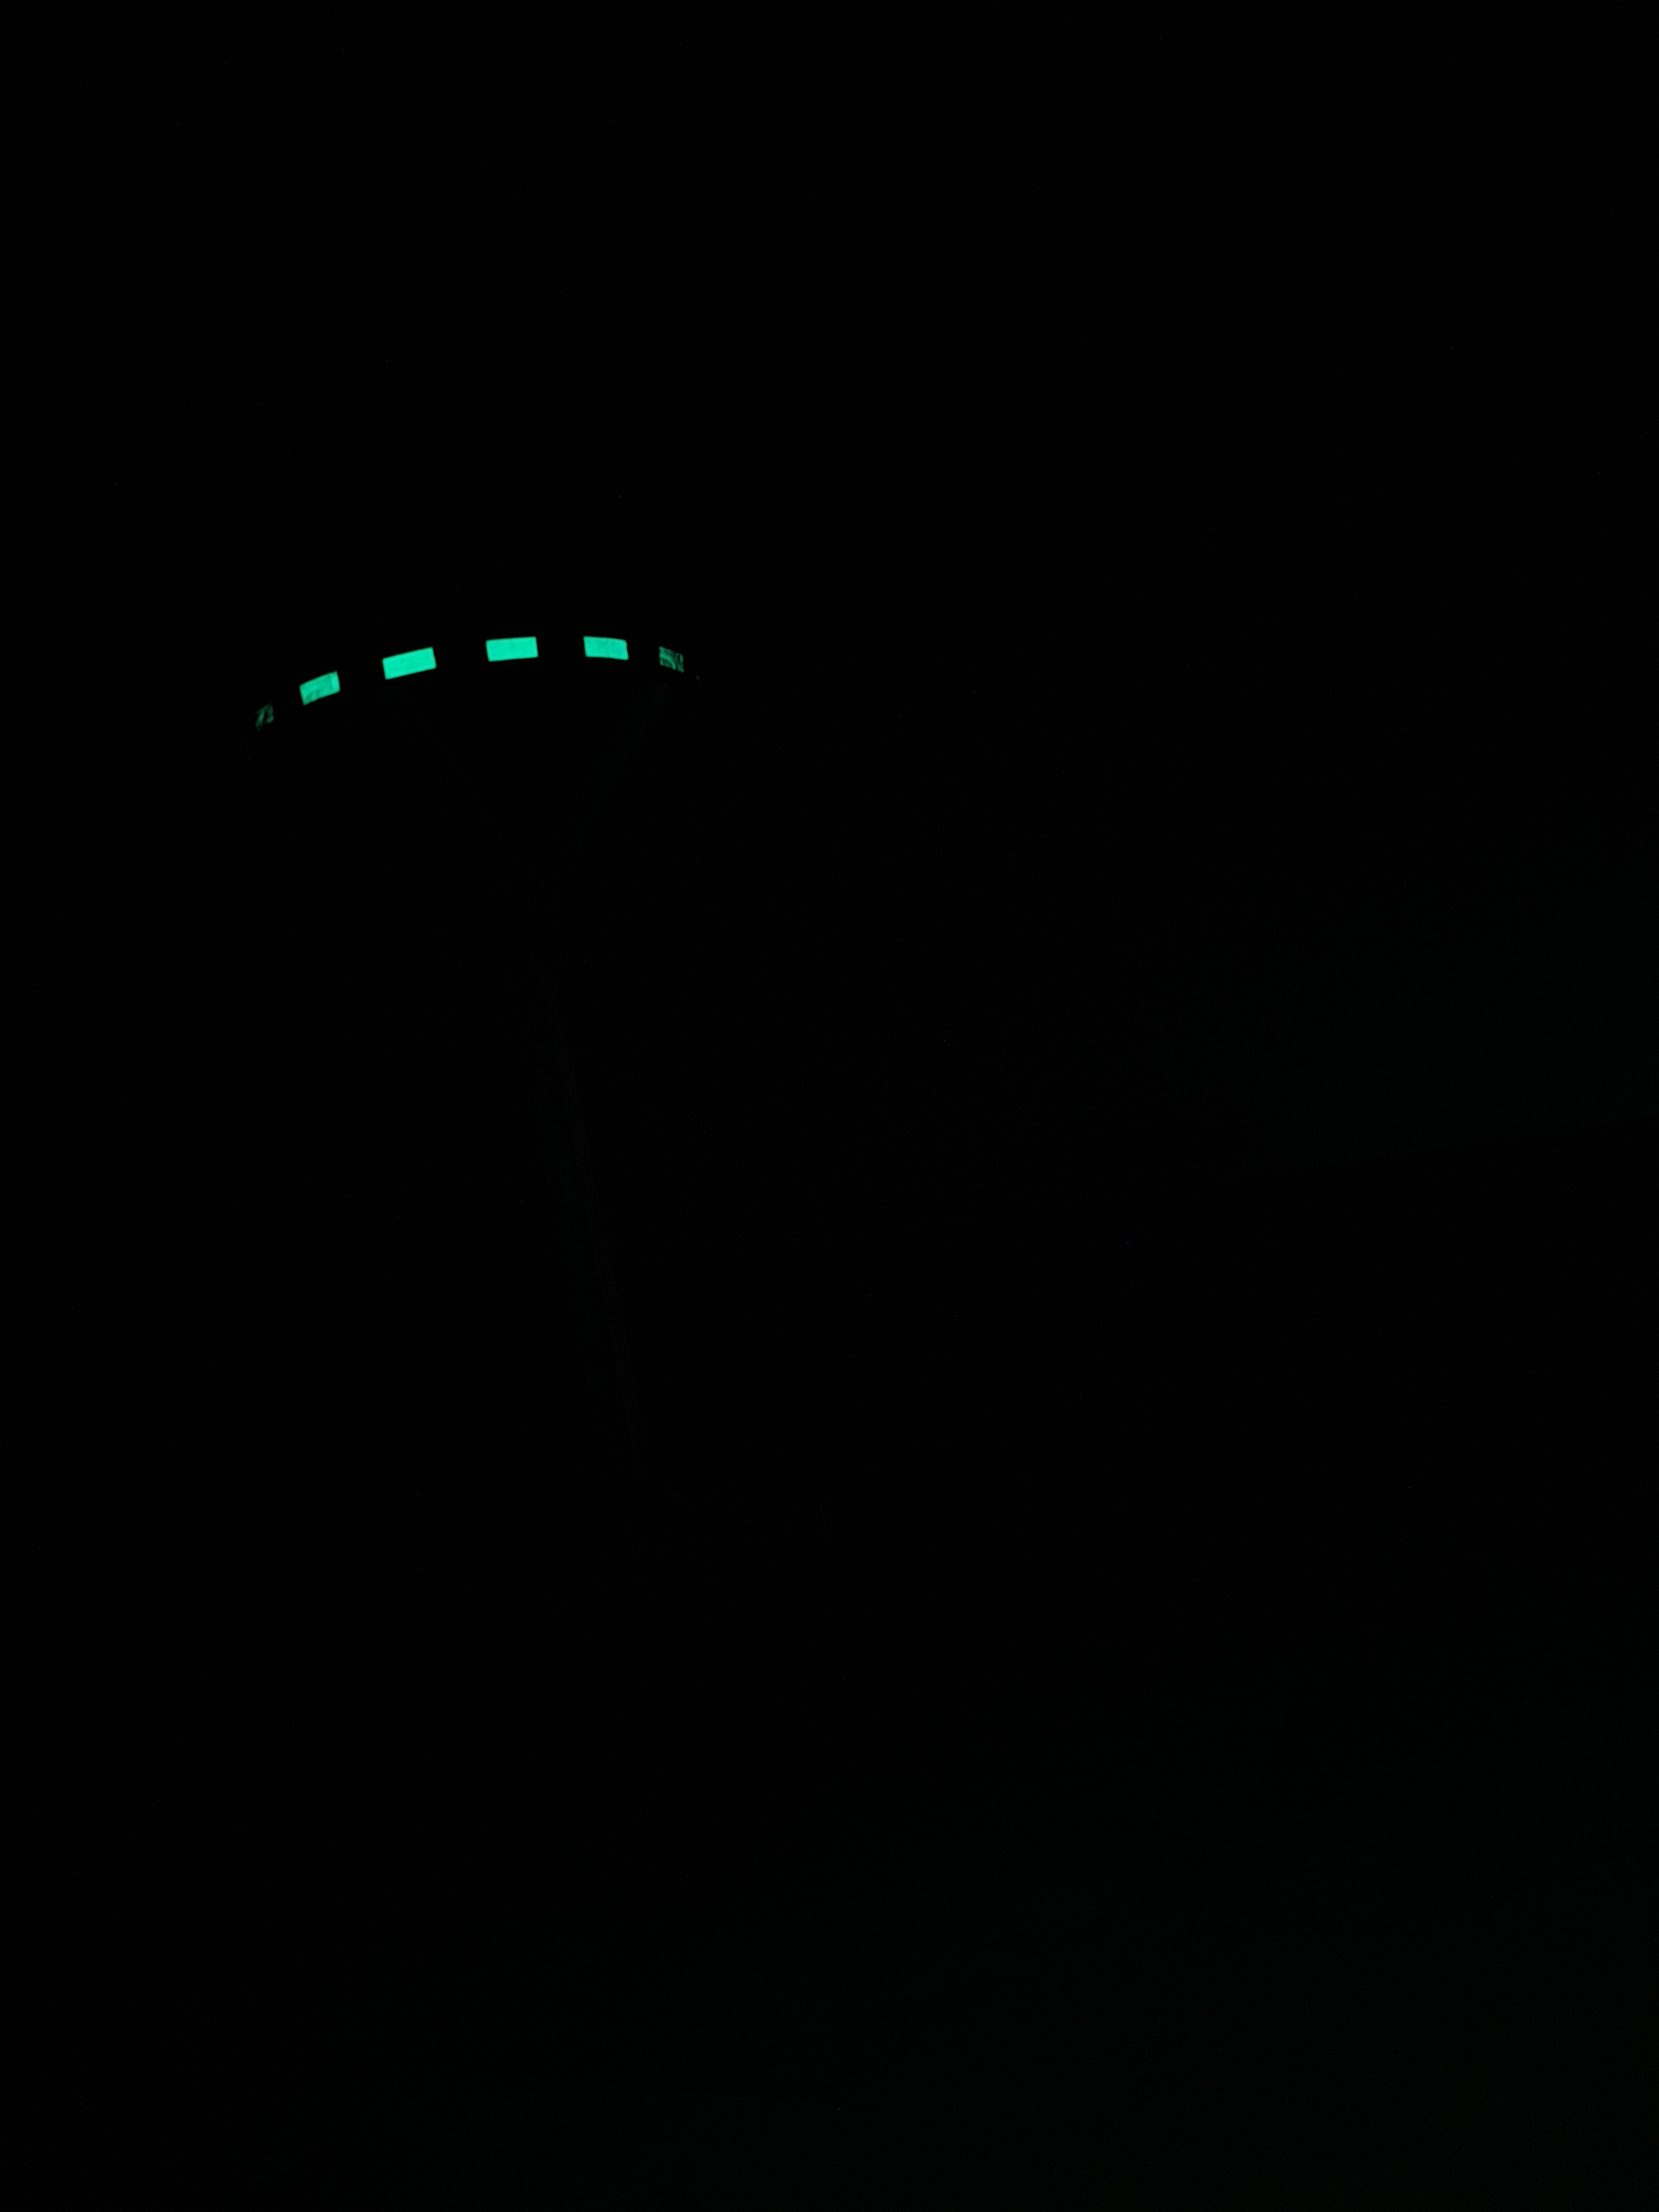hoop: (251, 629, 690, 716)
